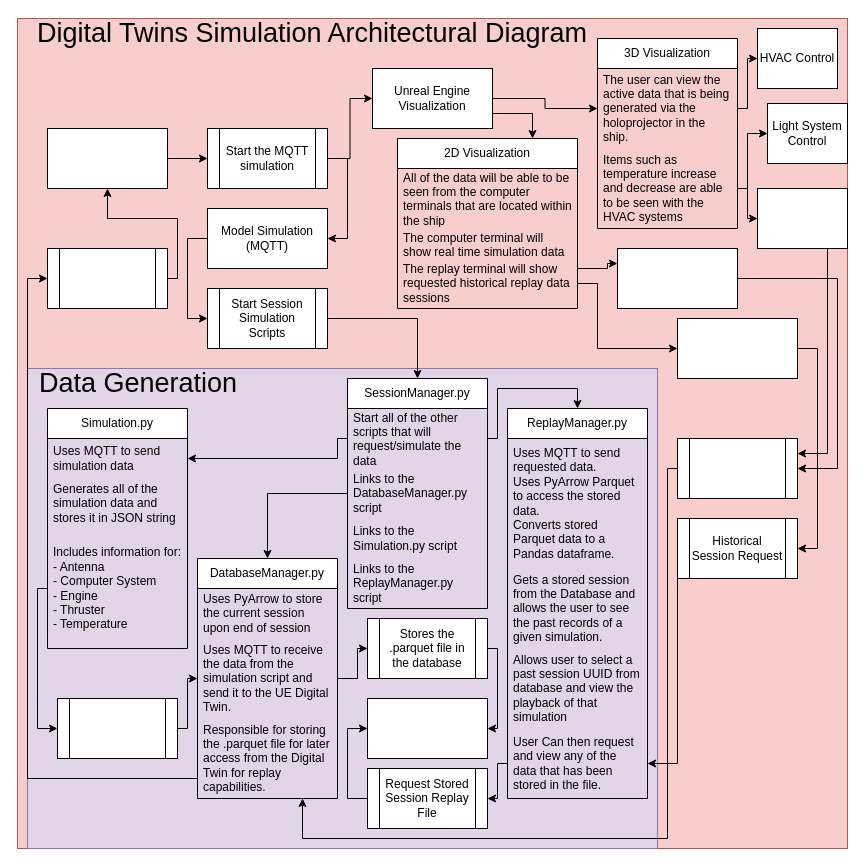
The diagram is 865 pixels wide and 866 high, and some of its shapes have lost their labels. The shapes that lost their labels are listed below. From the top down, each one's centre as x and y in pixels, then its label:
At point (107, 158): "Digital Twin Model (UE)".
At point (802, 218): "Real Time Holoprojection".
At point (107, 278): "Relay Requested Data".
At point (677, 278): "Computer Terminal Real Time Data".
At point (737, 348): "Replay Terminal Historical Stored Data".
At point (737, 468): "Current Session Request".
At point (117, 728): "Generate Simulation Data".
At point (427, 728): "Session Database Storage".
